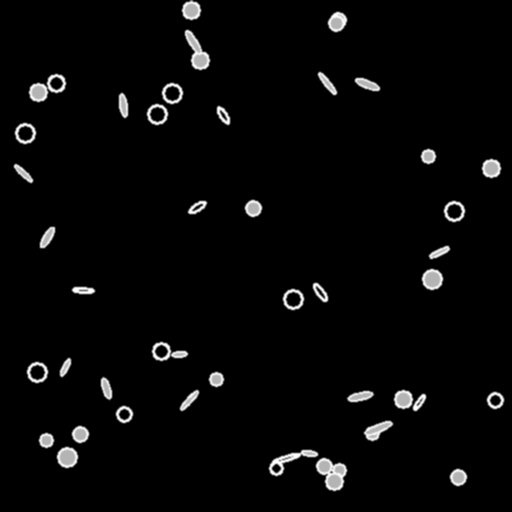pseudomonas: (317, 71, 337, 95), (184, 29, 202, 55), (364, 420, 392, 436), (13, 163, 33, 183), (179, 390, 199, 410), (38, 226, 56, 248), (355, 76, 379, 92), (311, 282, 329, 302), (272, 452, 300, 464), (187, 199, 207, 215), (348, 390, 372, 402), (215, 106, 231, 124), (429, 245, 449, 259), (58, 357, 72, 377), (412, 393, 426, 411), (100, 378, 112, 398), (118, 93, 128, 117), (72, 287, 94, 293), (301, 449, 317, 457), (171, 351, 187, 357)
synechocystis: (148, 105, 166, 123), (28, 363, 46, 381), (423, 270, 441, 288), (163, 84, 181, 102), (284, 290, 302, 308), (445, 202, 463, 220), (16, 124, 34, 142), (58, 448, 76, 466), (183, 2, 199, 18), (395, 391, 411, 407), (483, 160, 499, 176), (153, 343, 169, 359), (192, 52, 208, 68), (48, 75, 64, 91), (326, 473, 342, 489), (30, 84, 46, 100), (331, 13, 345, 27), (488, 393, 502, 407), (246, 201, 260, 215), (117, 407, 131, 421), (317, 459, 331, 473), (73, 427, 87, 441), (329, 16, 343, 30), (451, 470, 465, 484), (40, 434, 52, 446), (333, 464, 345, 476), (366, 427, 378, 439), (210, 373, 222, 385), (270, 462, 282, 474), (422, 150, 434, 162)
